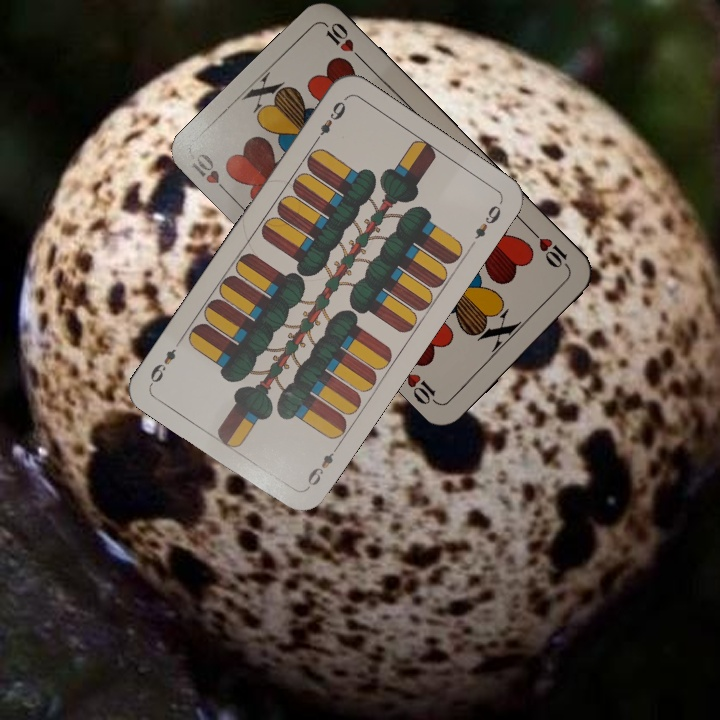E9: (302, 441, 342, 492), (309, 97, 349, 147)
H10: (187, 149, 235, 200), (527, 226, 573, 274)
